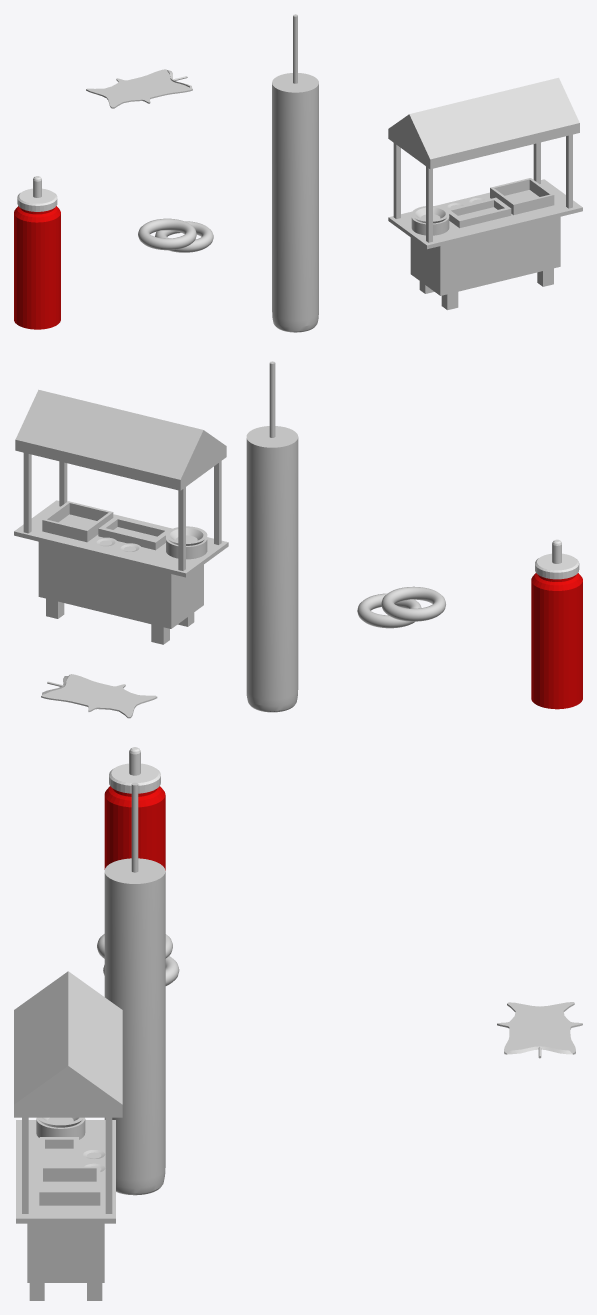
File: popo.fbx
3 views of the same model, one above another, from view 1: azimuth 30°, elevation 25°; view 2: azimuth 150°, elevation 25°; view 3: azimuth 270°, elevation 25° (orthographic). The views are drawn at different scales.
Visible parts, largest first — view 1: Cylinder.004, Cube, Cube.004, Cylinder.005, Torus, Plane.002, Plane, Plane.001, Cube.002, Cube.003, Cylinder.001, Cylinder; view 2: Cylinder.004, Cube, Cube.004, Cylinder.005, Torus, Plane.002, Plane, Plane.001, Cube.002, Cube.003, Cylinder, Cylinder.001; view 3: Cylinder.004, Cube.004, Cube, Cylinder.005, Plane.002, Plane, Cube.003, Plane.001.
Part boxes in pixels (bbox=[...]): Cylinder.004: bbox=[272, 14, 318, 332]; Cube: bbox=[388, 179, 582, 310]; Cube.004: bbox=[388, 77, 579, 169]; Cylinder.005: bbox=[14, 176, 60, 329]; Torus: bbox=[138, 218, 213, 252]; Plane.002: bbox=[86, 69, 192, 108]; Plane: bbox=[490, 178, 554, 215]; Plane.001: bbox=[447, 197, 511, 228]; Cube.002: bbox=[393, 143, 432, 242]; Cube.003: bbox=[533, 134, 572, 208]; Cylinder.001: bbox=[411, 215, 449, 235]; Cylinder: bbox=[411, 206, 449, 223]; Cylinder.004: bbox=[246, 361, 298, 712]; Cube: bbox=[14, 500, 228, 644]; Cube.004: bbox=[15, 389, 226, 490]; Cylinder.005: bbox=[531, 539, 582, 709]; Torus: bbox=[357, 586, 445, 628]; Plane.002: bbox=[41, 674, 157, 718]; Plane: bbox=[42, 501, 113, 542]; Plane.001: bbox=[98, 516, 169, 550]; Cube.002: bbox=[178, 461, 221, 570]; Cube.003: bbox=[23, 453, 67, 533]; Cylinder: bbox=[165, 526, 207, 545]; Cylinder.001: bbox=[166, 537, 207, 559]; Cylinder.004: bbox=[104, 782, 165, 1195]; Cube.004: bbox=[14, 971, 122, 1117]; Cube: bbox=[16, 1120, 115, 1300]; Cylinder.005: bbox=[104, 747, 165, 870]; Plane.002: bbox=[497, 1002, 582, 1054]; Plane: bbox=[39, 1166, 100, 1205]; Cube.003: bbox=[22, 1117, 112, 1213]; Plane.001: bbox=[39, 1137, 78, 1166].
Bounding box in the file's own units: 2554 × 1446 × 1866.
